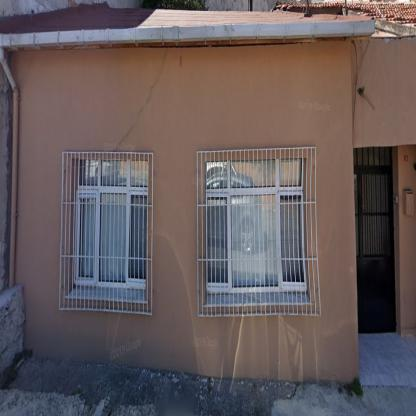door: (354, 150, 393, 325)
window: (207, 162, 304, 290), (77, 163, 147, 290)
